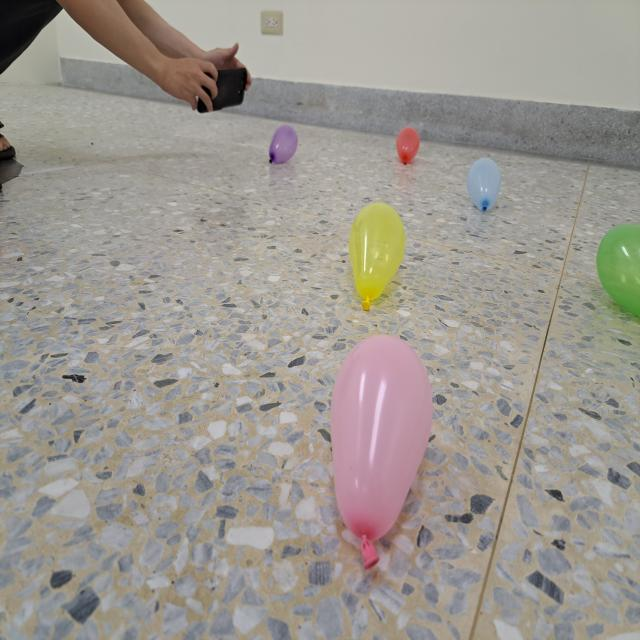other: (328, 332, 434, 570), (348, 201, 404, 311), (596, 222, 640, 315), (467, 157, 502, 212), (269, 126, 299, 163)
red: (395, 127, 419, 166)
